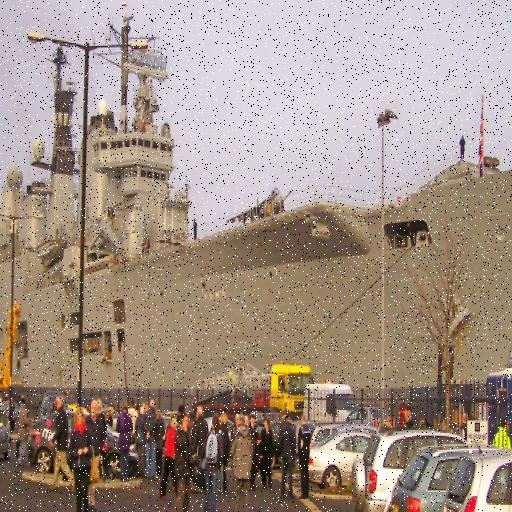Portanaves: (1, 1, 512, 471)
